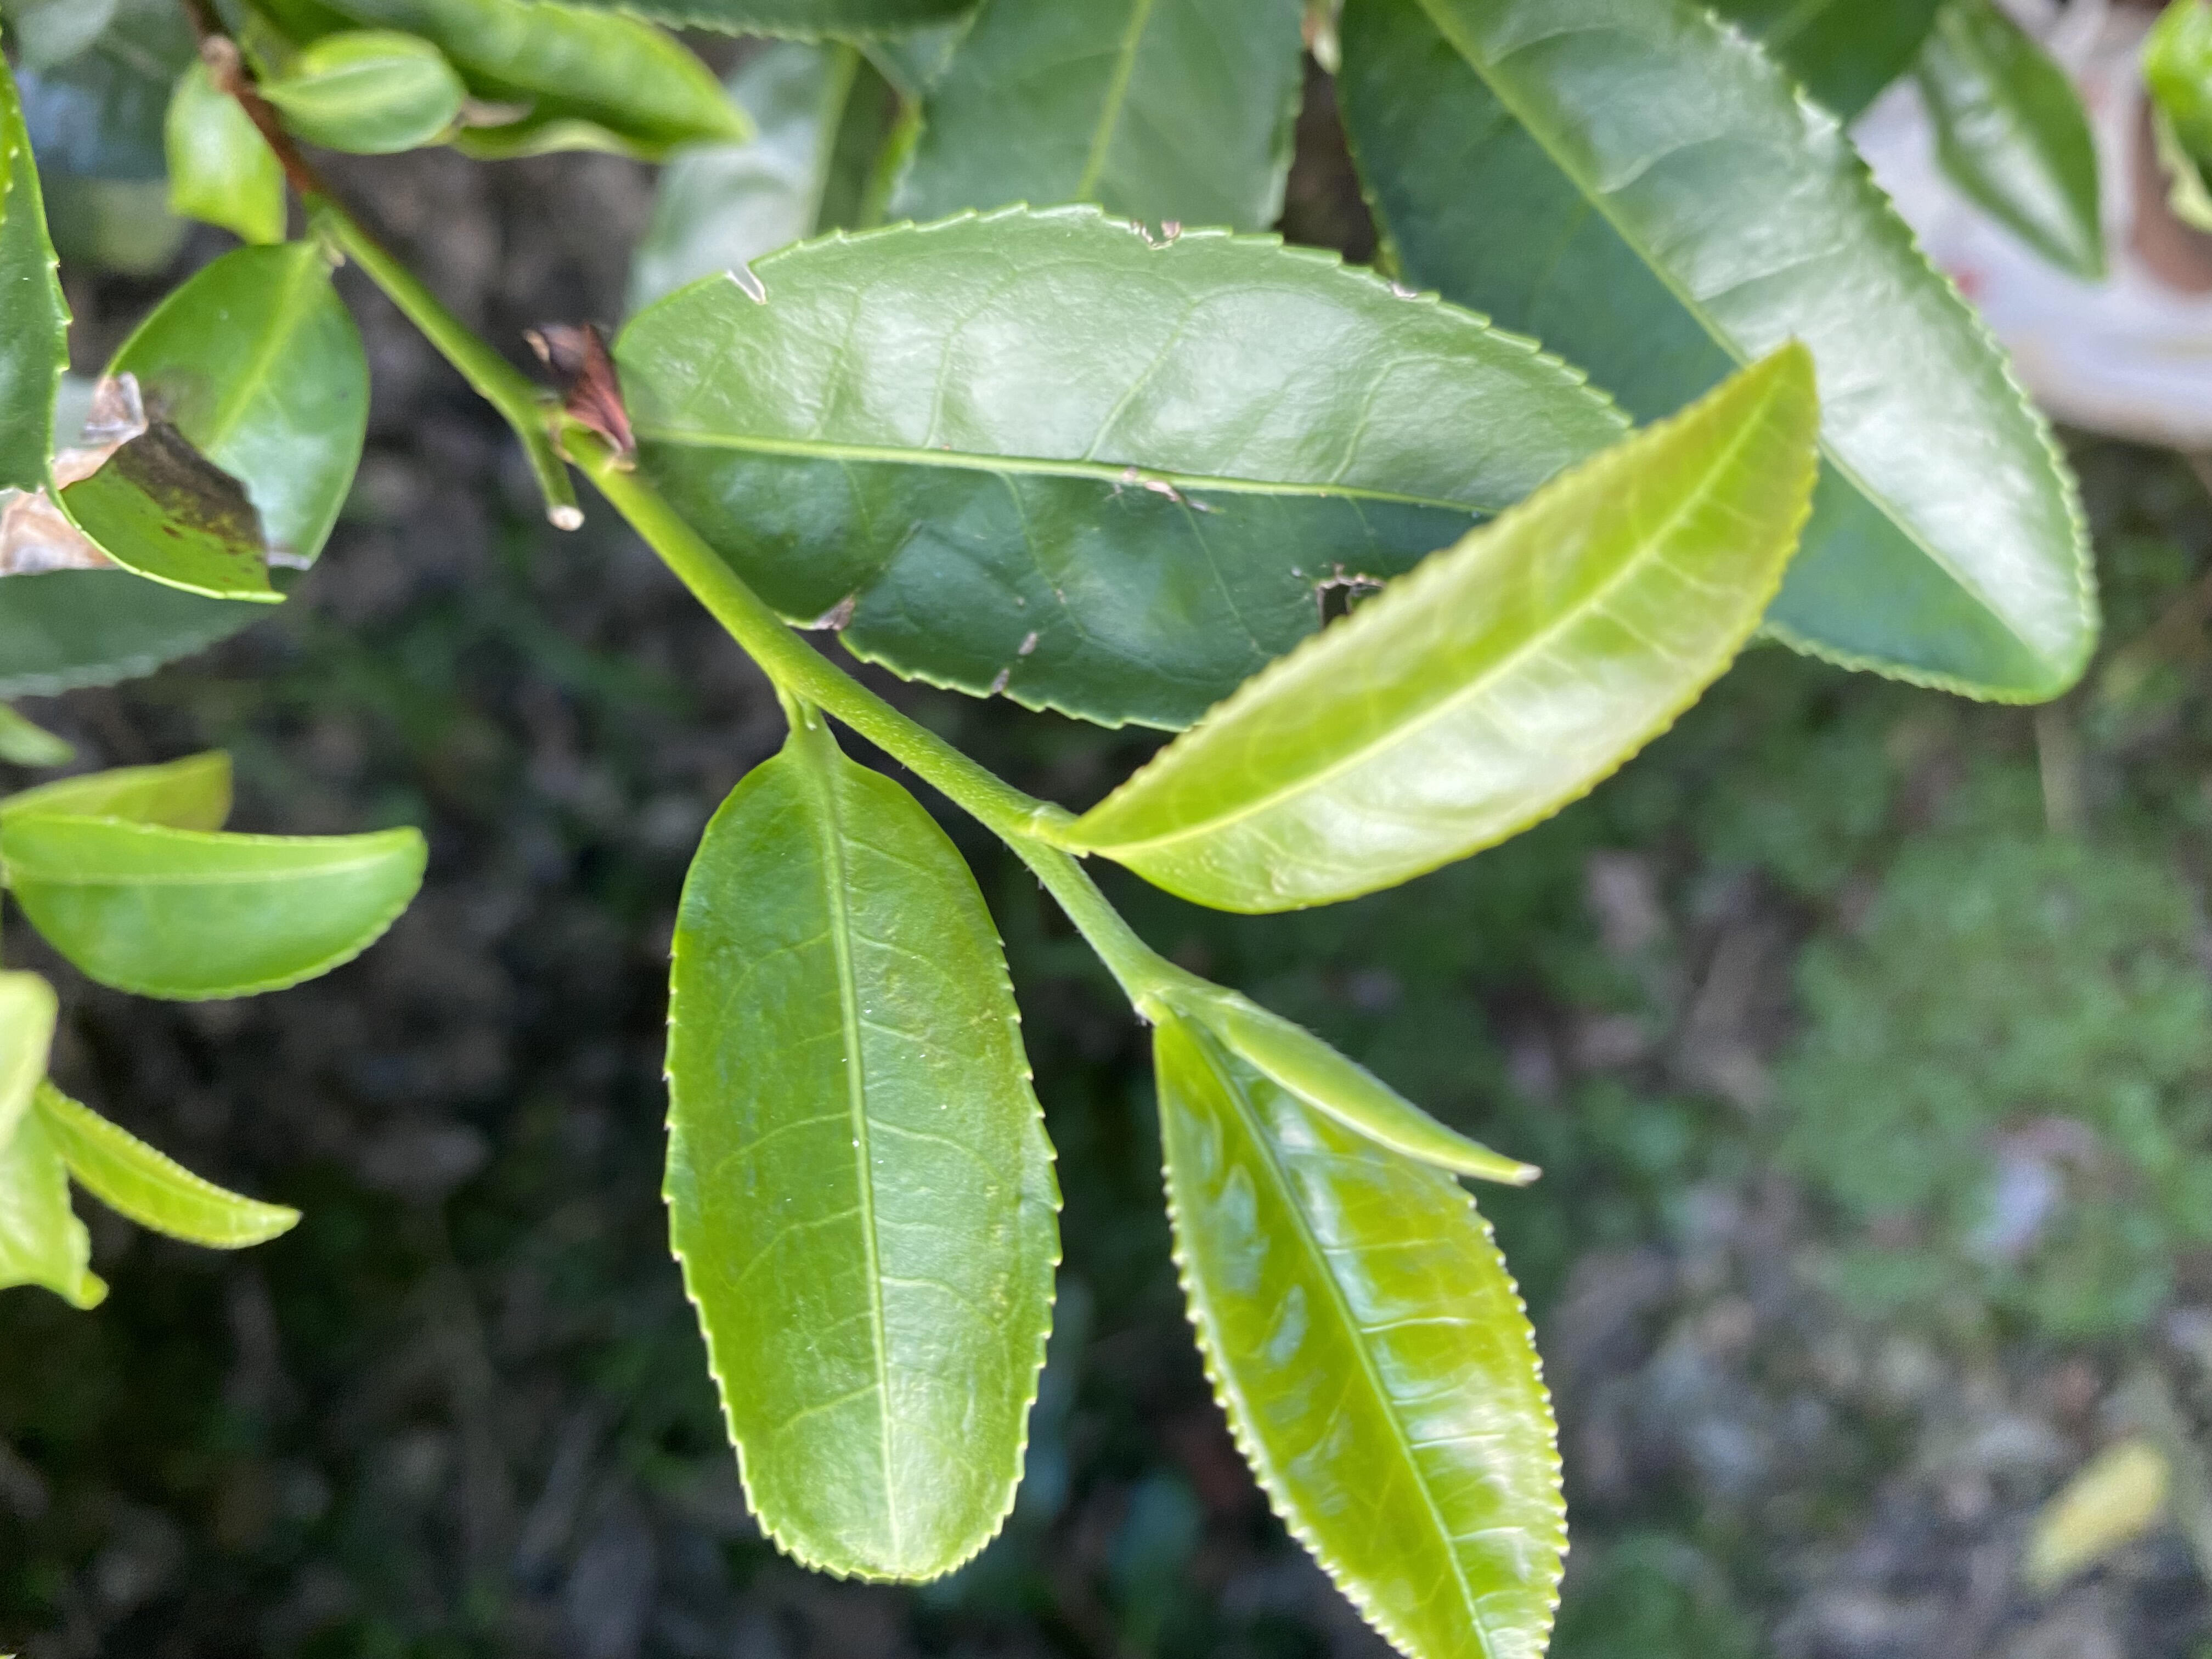chihuo_high: (634, 199, 1632, 739)
healthy: (1078, 329, 1822, 918), (657, 755, 1068, 1591), (1151, 1018, 1569, 1657)
